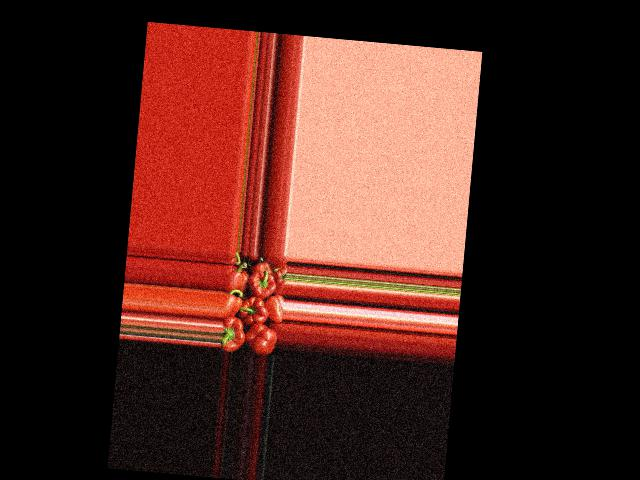bell_pepper: (265, 294, 283, 324)
